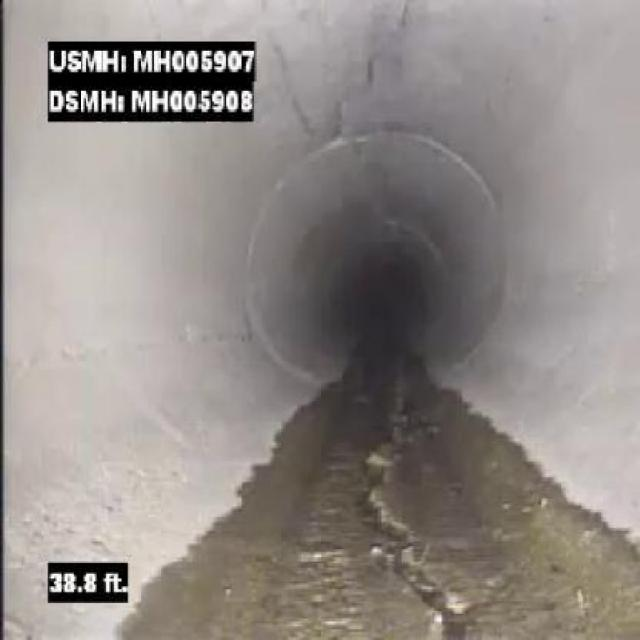Buckling: (348, 436, 500, 638)
Crack: (325, 32, 389, 132), (106, 323, 246, 363), (388, 2, 418, 46)
